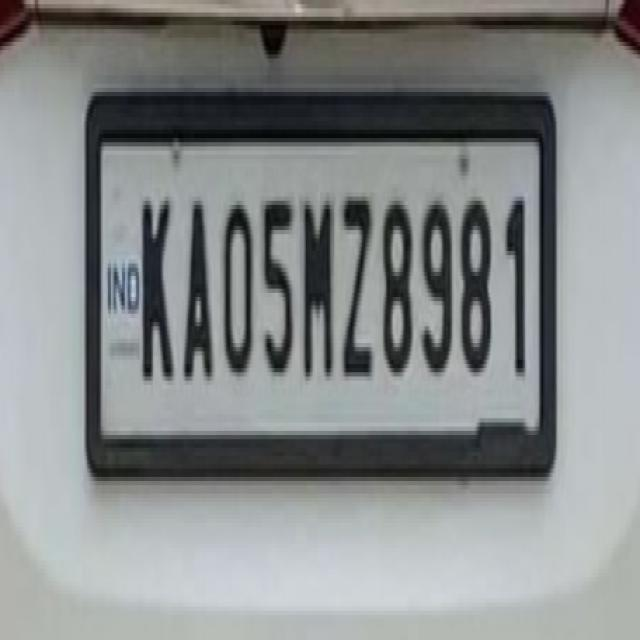0: (222, 192, 256, 386)
1: (504, 179, 534, 395)
5: (260, 179, 298, 379)
8: (458, 186, 496, 394), (380, 185, 416, 384)
9: (420, 178, 454, 380)
A: (178, 188, 214, 384)
K: (138, 190, 176, 388)
M: (300, 187, 334, 387)
Z: (339, 182, 376, 392)
